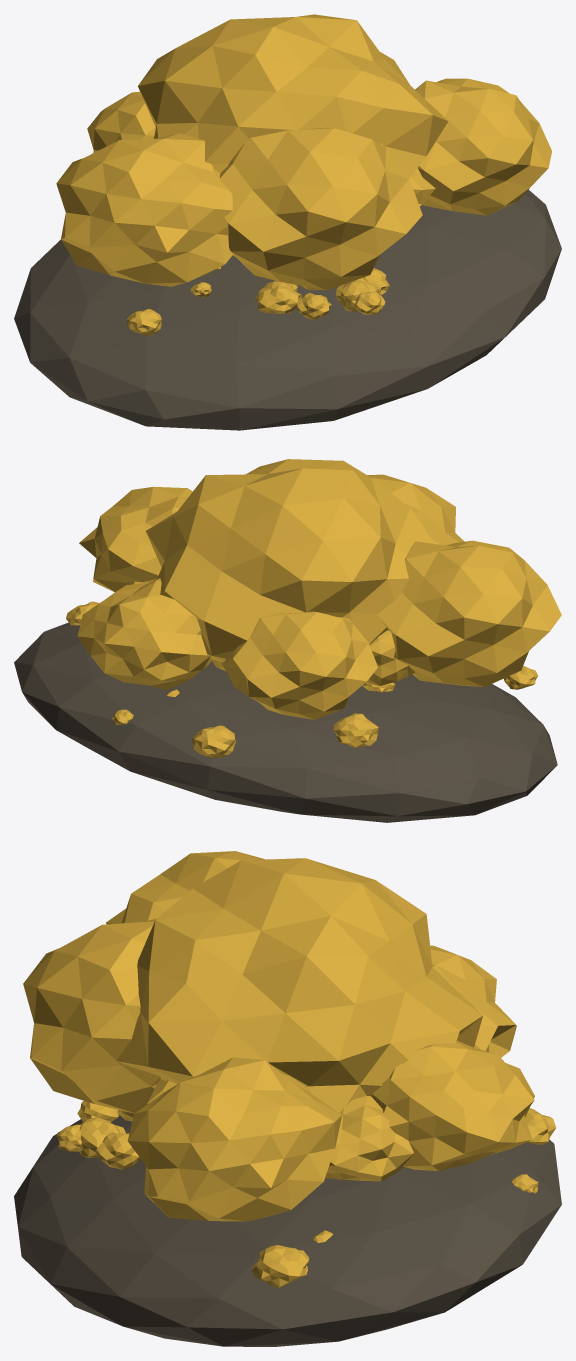
Rendered from native-gold.glb.
3 views of the same model, one above another, from view 1: azimuth 30°, elevation 25°; view 2: azimuth 150°, elevation 25°; view 3: azimuth 270°, elevation 25° (orthographic). The views are drawn at different scales.
Parts seen in each view (by area): view 1: Gold tự sinh; view 2: Gold tự sinh; view 3: Gold tự sinh.
Boxes of the visible parts, x1,y1,x2,y2 form: Gold tự sinh: [14, 14, 561, 430]; Gold tự sinh: [14, 459, 561, 822]; Gold tự sinh: [14, 851, 561, 1346].
Bounding box in the file's own units: 3.96 × 2.43 × 3.03.
